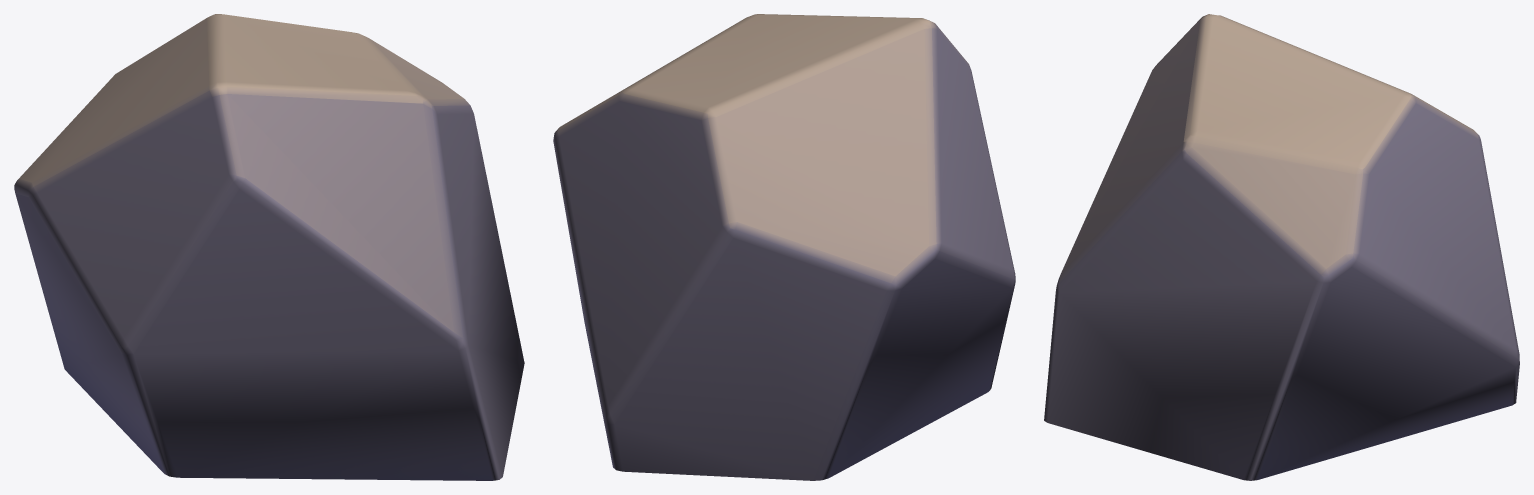
File: Boulder1.fbx
3 renders of one model, left to right at view 1: azimuth 30°, elevation 25°; view 2: azimuth 150°, elevation 25°; view 3: azimuth 270°, elevation 25°, orthographic. The views are drawn at different scales.
Visible parts, largest first — view 1: Boulder1; view 2: Boulder1; view 3: Boulder1.
Part boxes in pixels (x1=…): Boulder1: x1=14, y1=14, x2=524, y2=480; Boulder1: x1=553, y1=14, x2=1015, y2=480; Boulder1: x1=1044, y1=14, x2=1519, y2=480.
Size of the model in its own units: 0.5657 by 0.4697 by 0.62.
